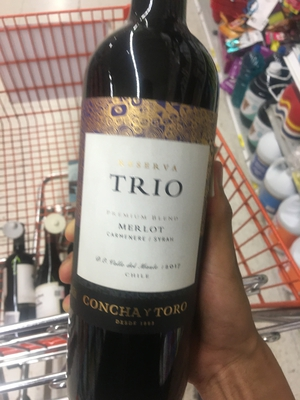trio merlot: (59, 15, 220, 400)
